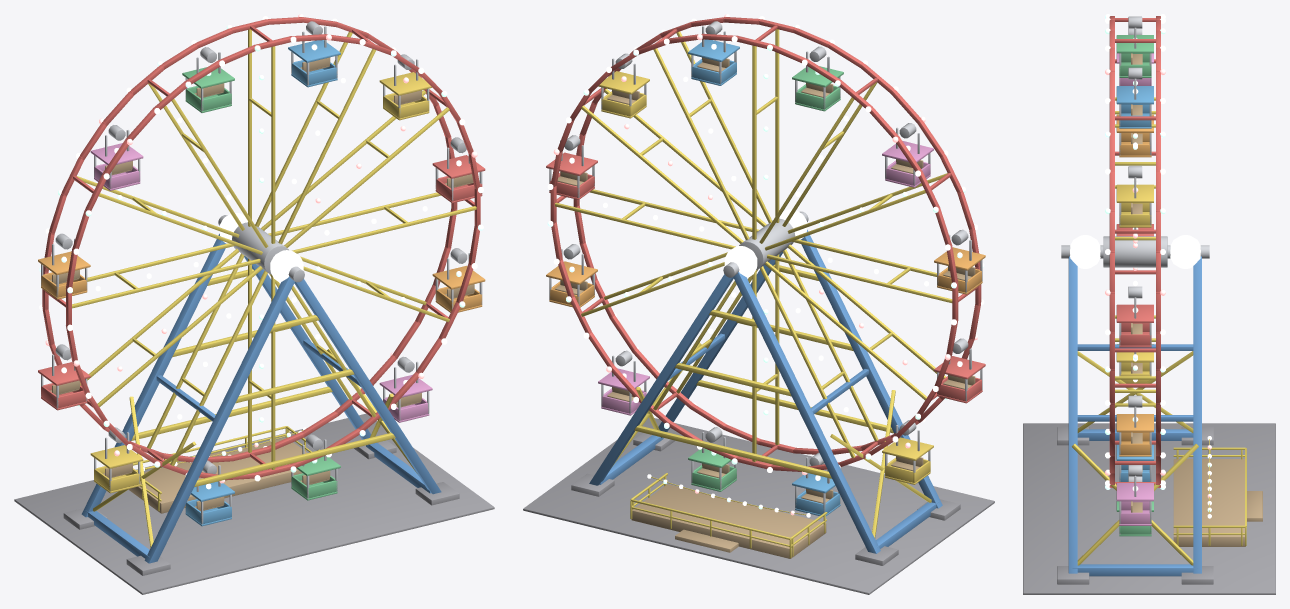
The model's file is th13_riesenrad.glb.
The picture shows the model from 3 angles, left to right: view 1: azimuth 30°, elevation 25°; view 2: azimuth 150°, elevation 25°; view 3: azimuth 270°, elevation 25°; orthographic projection.
Parts seen in each view (by area): view 1: Cube, Cube.122, Cube.143, Cube.121, Cube.127, Cube.126, Cube.123, Cylinder, Cube.128, Cube.039, Cube.044, Cube.038 (+27 smaller); view 2: Cube, Cube.143, Cube.127, Cube.126, Cube.122, Cube.121, Cube.128, Cylinder, Cube.123, Cube.087, Cube.086, Cube.092 (+28 smaller); view 3: Cube, Cube.143, Cube.121, Cube.126, Cylinder, Cube.132, Sphere, Sphere.001, Cube.131, Cube.202, Cube.328, Cube.314 (+21 smaller).
Boxes of the visible parts, <box> form: Cube: <box>14,413,494,594</box>; Cube.122: <box>144,276,294,563</box>; Cube.143: <box>128,437,307,513</box>; Cube.121: <box>294,279,441,494</box>; Cube.127: <box>81,233,225,517</box>; Cube.126: <box>244,256,370,445</box>; Cube.123: <box>194,432,395,486</box>; Cylinder: <box>232,222,288,274</box>; Cube.128: <box>131,386,332,440</box>; Cube.039: <box>278,49,376,243</box>; Cube.044: <box>97,266,262,407</box>; Cube.038: <box>284,107,449,247</box>; Cube: <box>523,417,994,594</box>; Cube.143: <box>631,484,826,558</box>; Cube.127: <box>733,272,880,553</box>; Cube.126: <box>589,274,733,485</box>; Cube.122: <box>801,229,942,508</box>; Cube.121: <box>658,252,782,437</box>; Cube.128: <box>634,425,831,478</box>; Cylinder: <box>739,218,795,269</box>; Cube.123: <box>696,380,893,433</box>; Cube.087: <box>653,48,749,239</box>; Cube.086: <box>581,105,743,243</box>; Cube.092: <box>765,261,927,399</box>; Cube: <box>1023,423,1275,594</box>; Cube.143: <box>1173,459,1245,546</box>; Cube.121: <box>1068,256,1077,573</box>; Cube.126: <box>1193,256,1201,573</box>; Cylinder: <box>1103,236,1167,267</box>; Cube.132: <box>1072,564,1198,576</box>; Sphere: <box>1170,235,1200,268</box>; Sphere.001: <box>1070,235,1100,268</box>; Cube.131: <box>1077,429,1193,440</box>; Cube.202: <box>1116,86,1153,104</box>; Cube.328: <box>1116,414,1153,432</box>; Cube.314: <box>1116,483,1153,501</box>.
Bounding box in the file's own units: 24.35 × 26.02 × 12.6.
